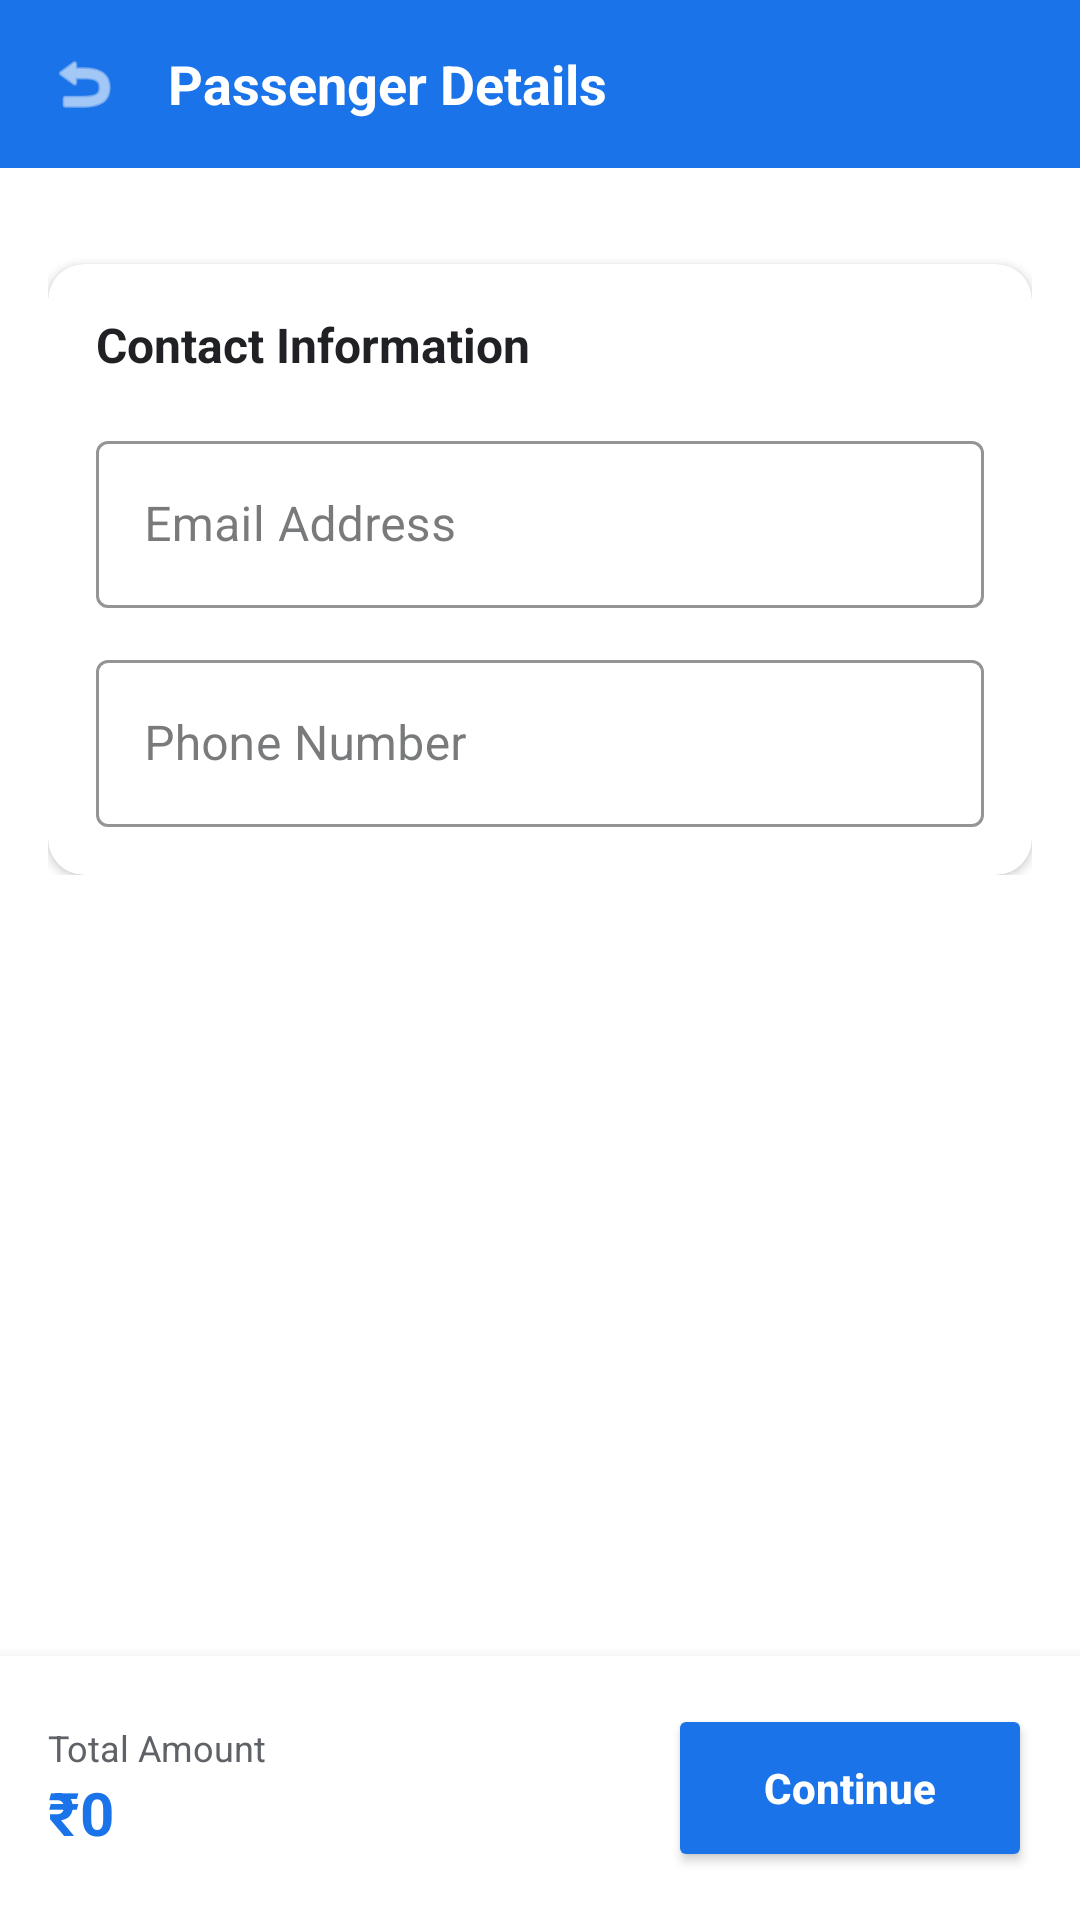

Icon bounding boxes for this 1080×1920 phone screenshot, format (x1, y1, x2, y2):
Back: (59, 61, 111, 108)
